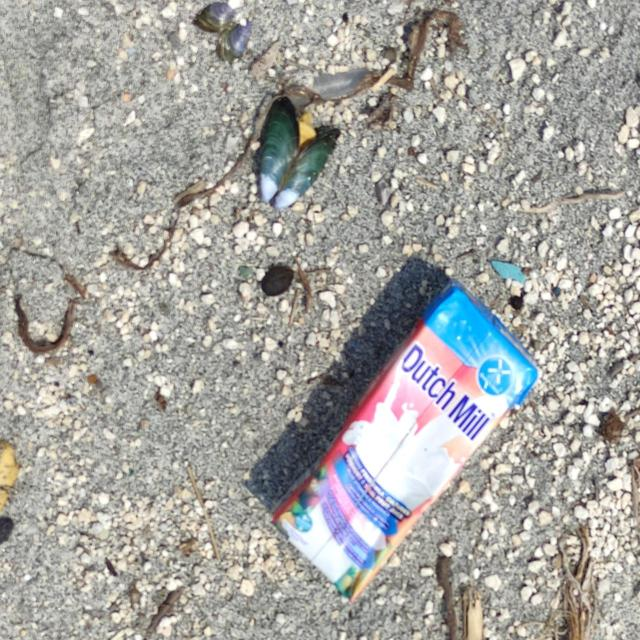cardboard_waste: (269, 277, 541, 603)
